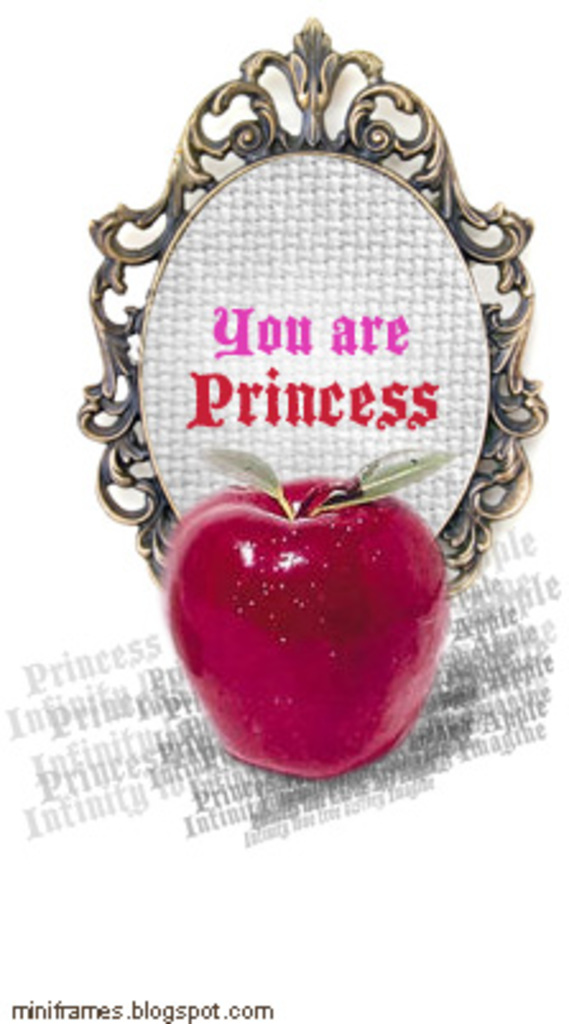Apple: (147, 462, 451, 760)
